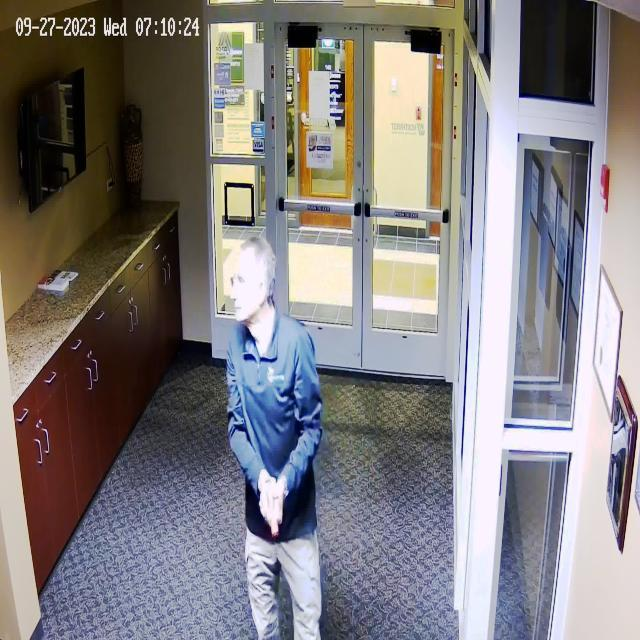Gun: (258, 472, 295, 553)
